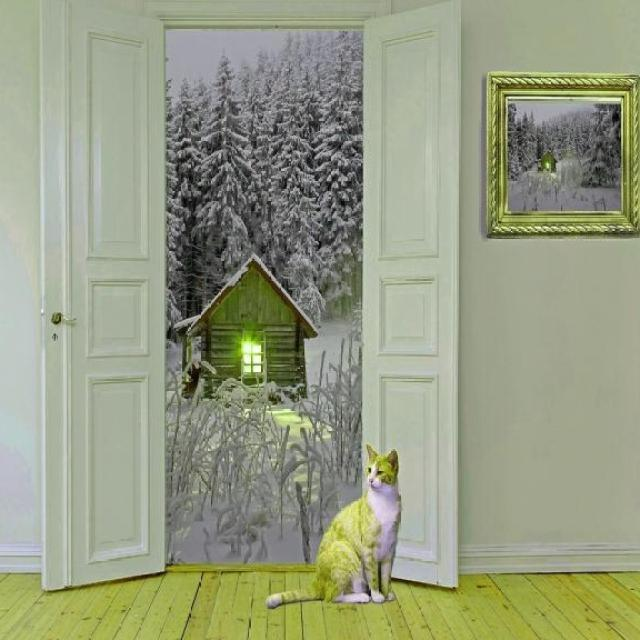door: (42, 0, 169, 596)
